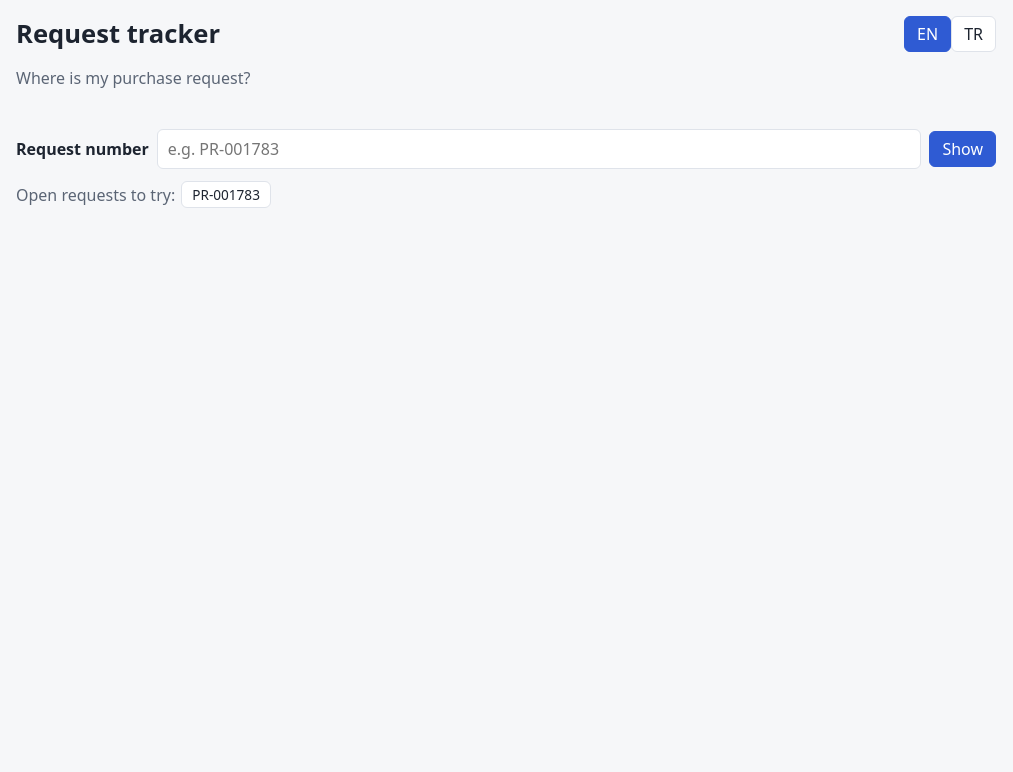
Test: RequestTracker › shows the strip for a known request
The image size is (1013, 772).
Type " pr-001783 " into the field labelled "Request number" at (539, 149), box [157,129,921,169]
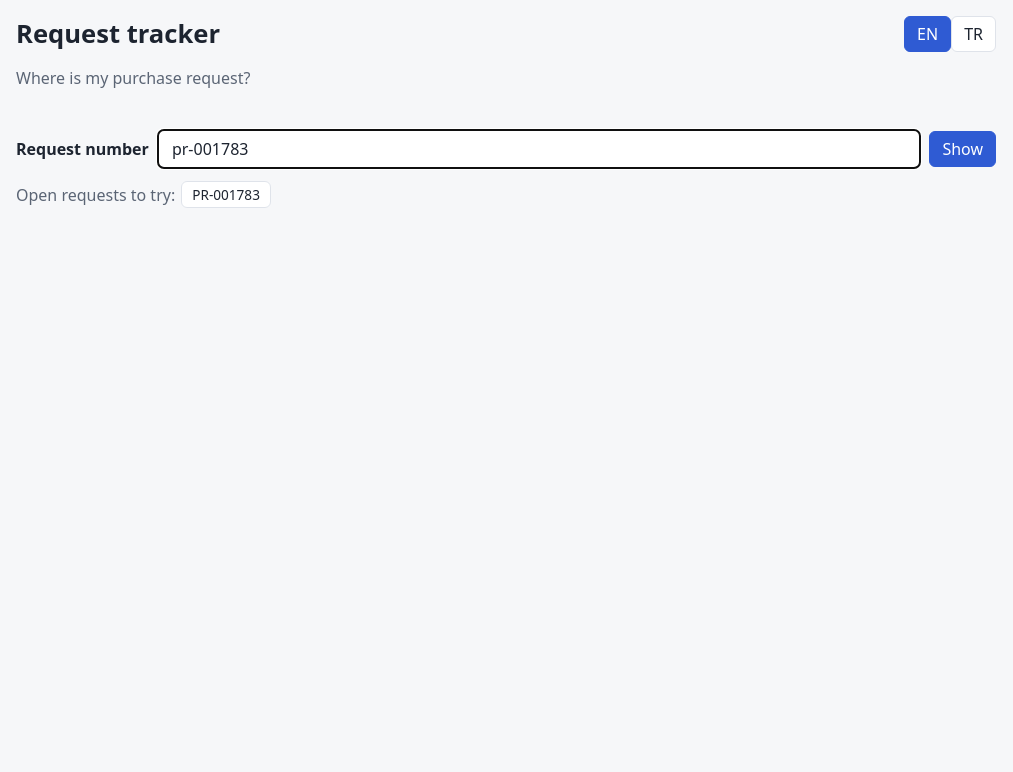
Click the button "Show" at (963, 149), box [929,131,996,167]
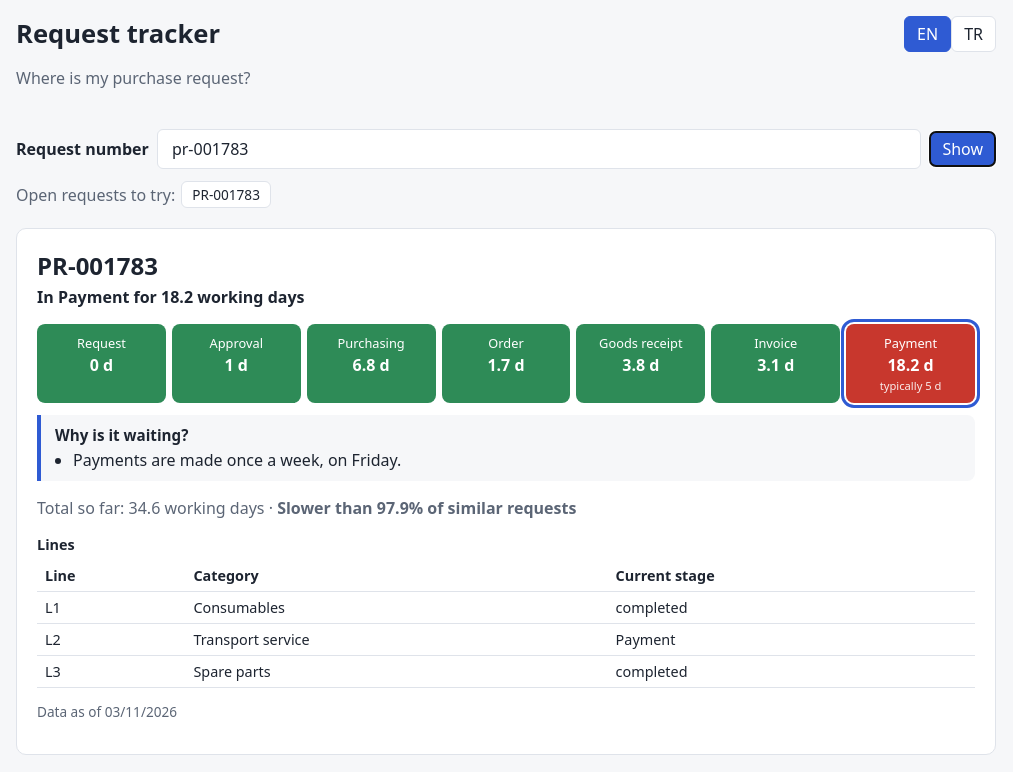
Expected: the heading "PR-001783" is shown, [37,249,158,282]
Expected: the text "Slower than 97.9% of similar requests" is shown, [277,497,576,519]
